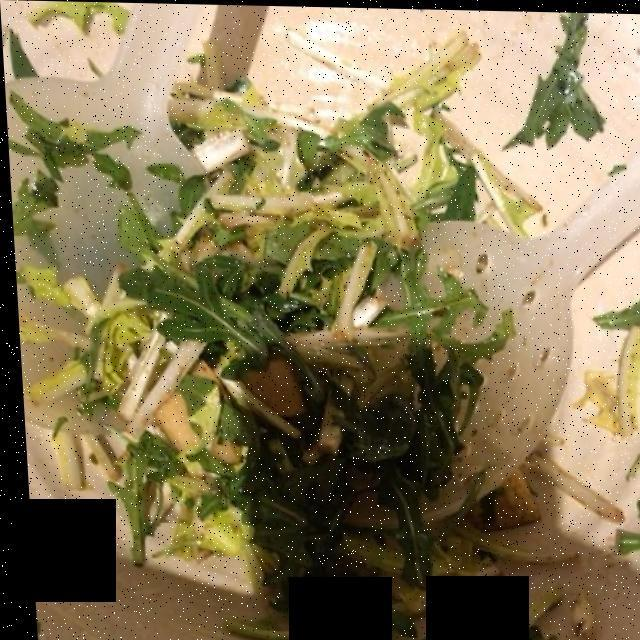salad: (36, 51, 542, 612)
